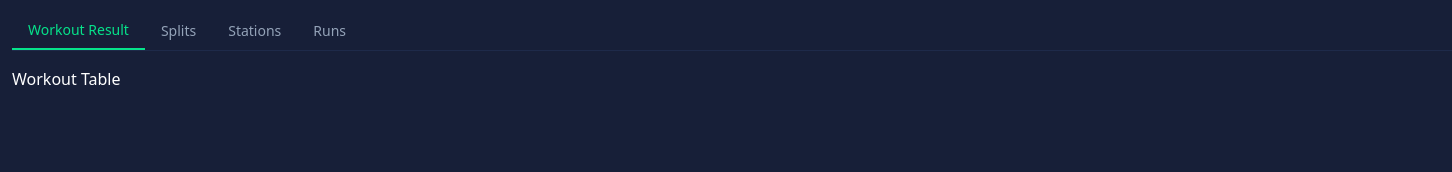
Scenario: ResultTabs › switches back to workout content when Workout Result tab is clicked
The image size is (1452, 172).
Click the button "Stations".
click(255, 31)  # box top-left (212, 12), bottom-right (297, 50)
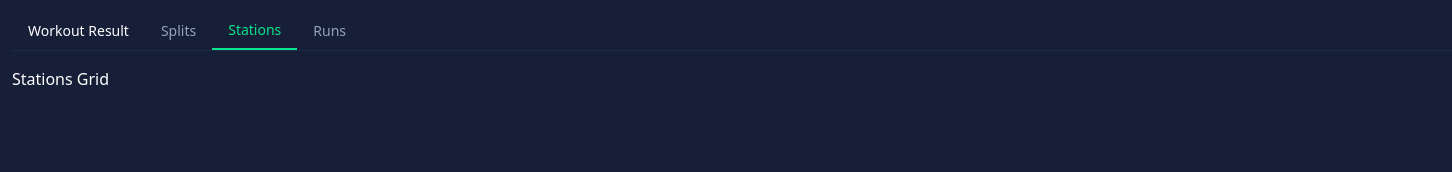
Click the button "Workout Result".
click(78, 31)  # box top-left (12, 12), bottom-right (145, 50)
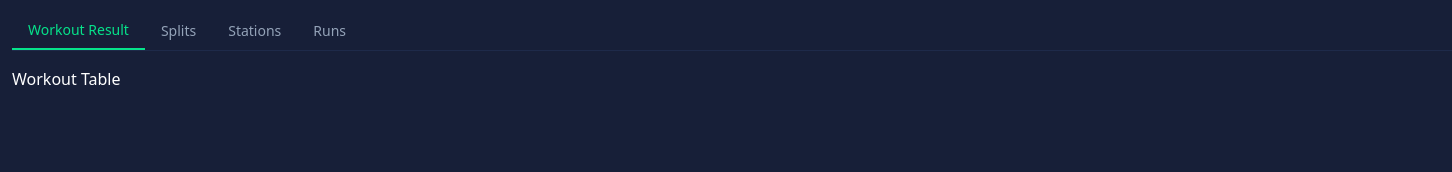
Expected: the text "Workout Table" is shown, top-left (12, 68), bottom-right (120, 90)
Expected: the text "Stations Grid" is gone
